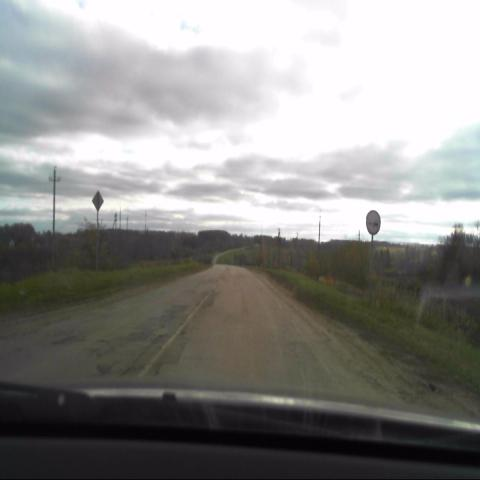3_20: (366, 208, 381, 235)
